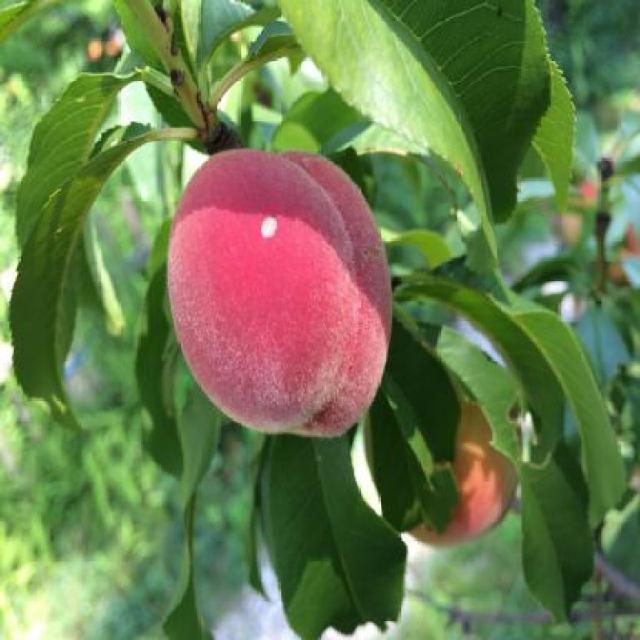Peach: (167, 146, 395, 438), (362, 346, 520, 544), (554, 178, 638, 280)
